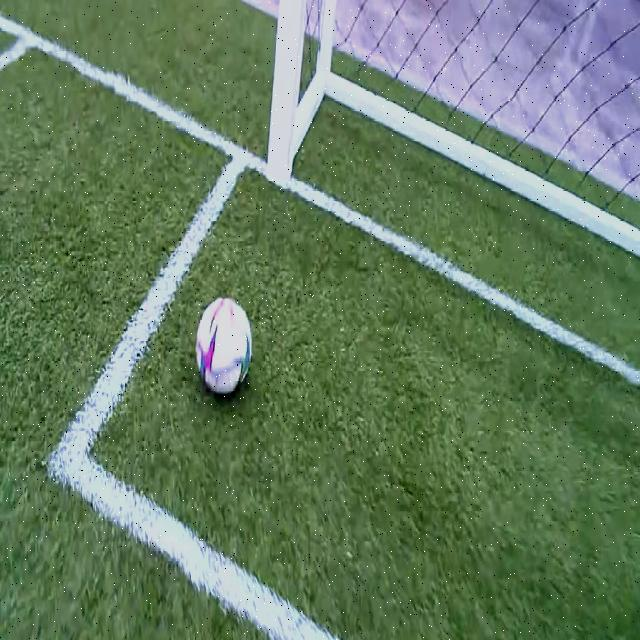ball: (196, 296, 251, 396)
